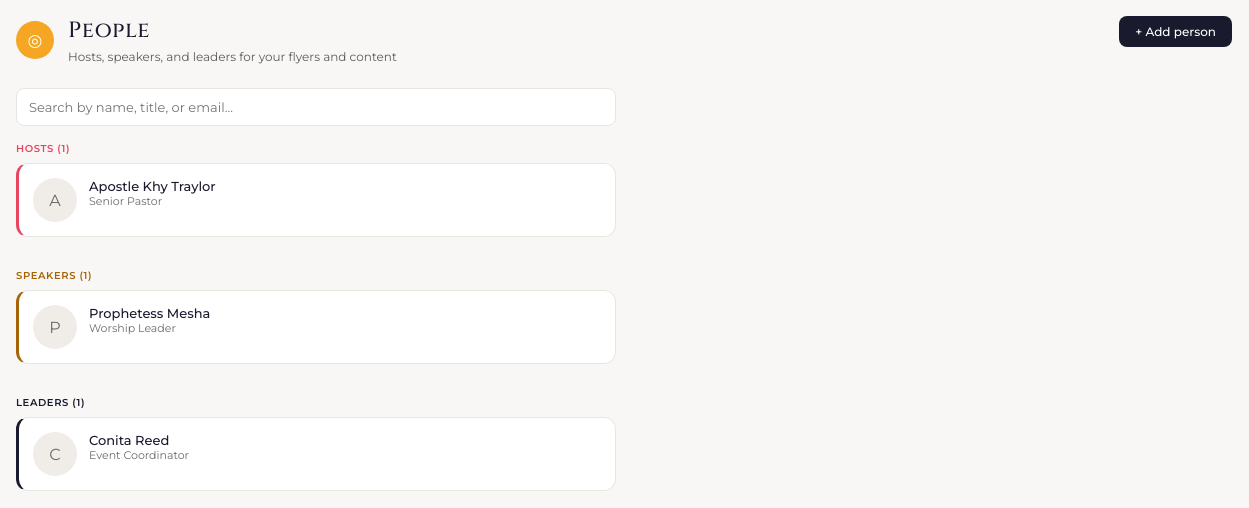
search filters the roster by name, title, or email
The width and height of the screenshot is (1249, 508).
Expected: the text "Apostle Khy Traylor" is shown, top-left (89, 178), bottom-right (216, 194)
In the field with placeholder "Search by name, title, or email...": (316, 107) top-left (16, 88), bottom-right (616, 126), type "mesha"
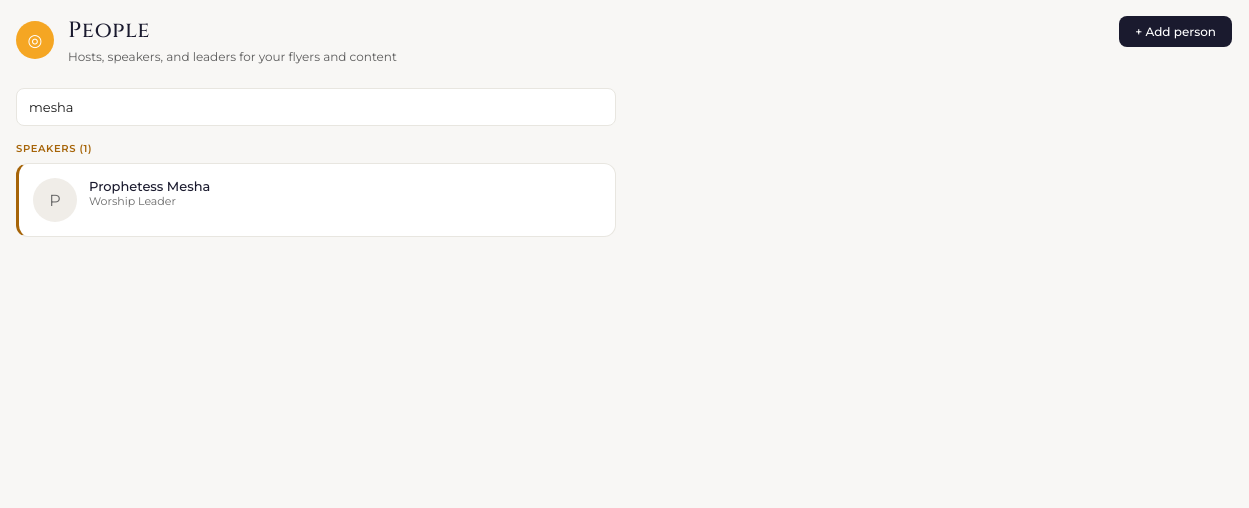
Expected: the text "Prophetess Mesha" is shown, top-left (89, 178), bottom-right (210, 194)
Expected: the button "Apostle Khy Traylor" is gone
